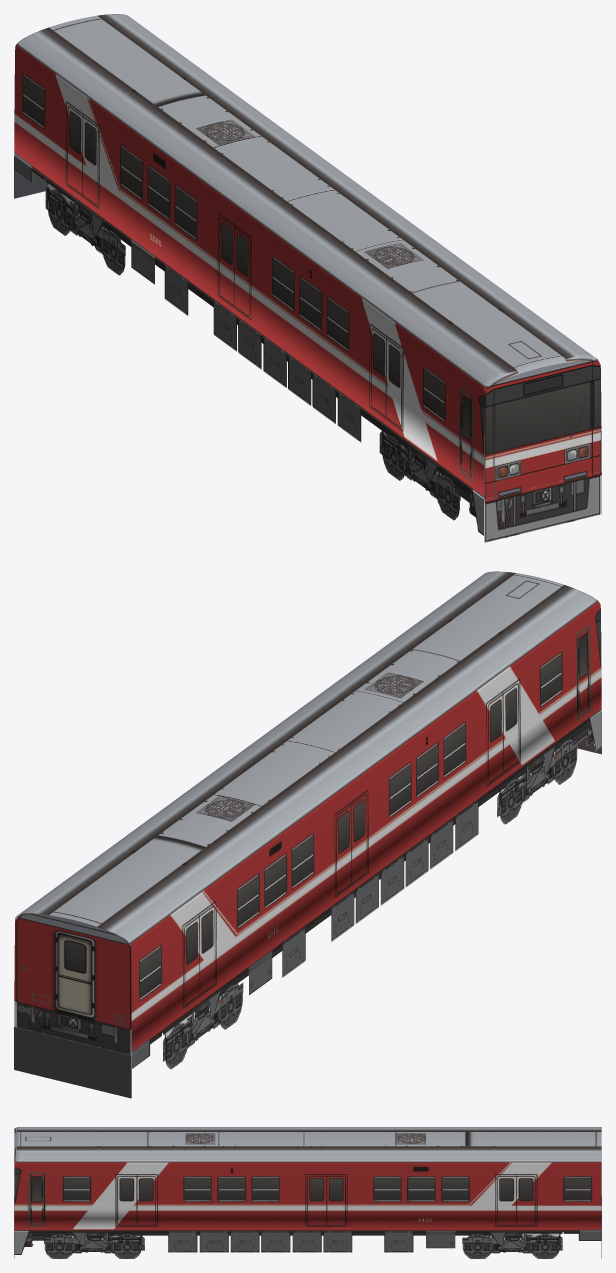
The model's file is car1.glb.
The picture shows the model from 3 angles, top to bottom: view 1: azimuth 30°, elevation 25°; view 2: azimuth 150°, elevation 25°; view 3: azimuth 270°, elevation 25°; orthographic projection. The views are drawn at different scales.
Visible parts, largest first — view 1: ensyu-2000-car1; view 2: ensyu-2000-car1; view 3: ensyu-2000-car1.
Part boxes in pixels (<box>): ensyu-2000-car1: <box>14,14,601,542</box>; ensyu-2000-car1: <box>14,571,601,1098</box>; ensyu-2000-car1: <box>14,1127,601,1258</box>.
Bounding box in the file's own units: 2.74 × 3.65 × 18.97.
8 materials, 7 textured.
